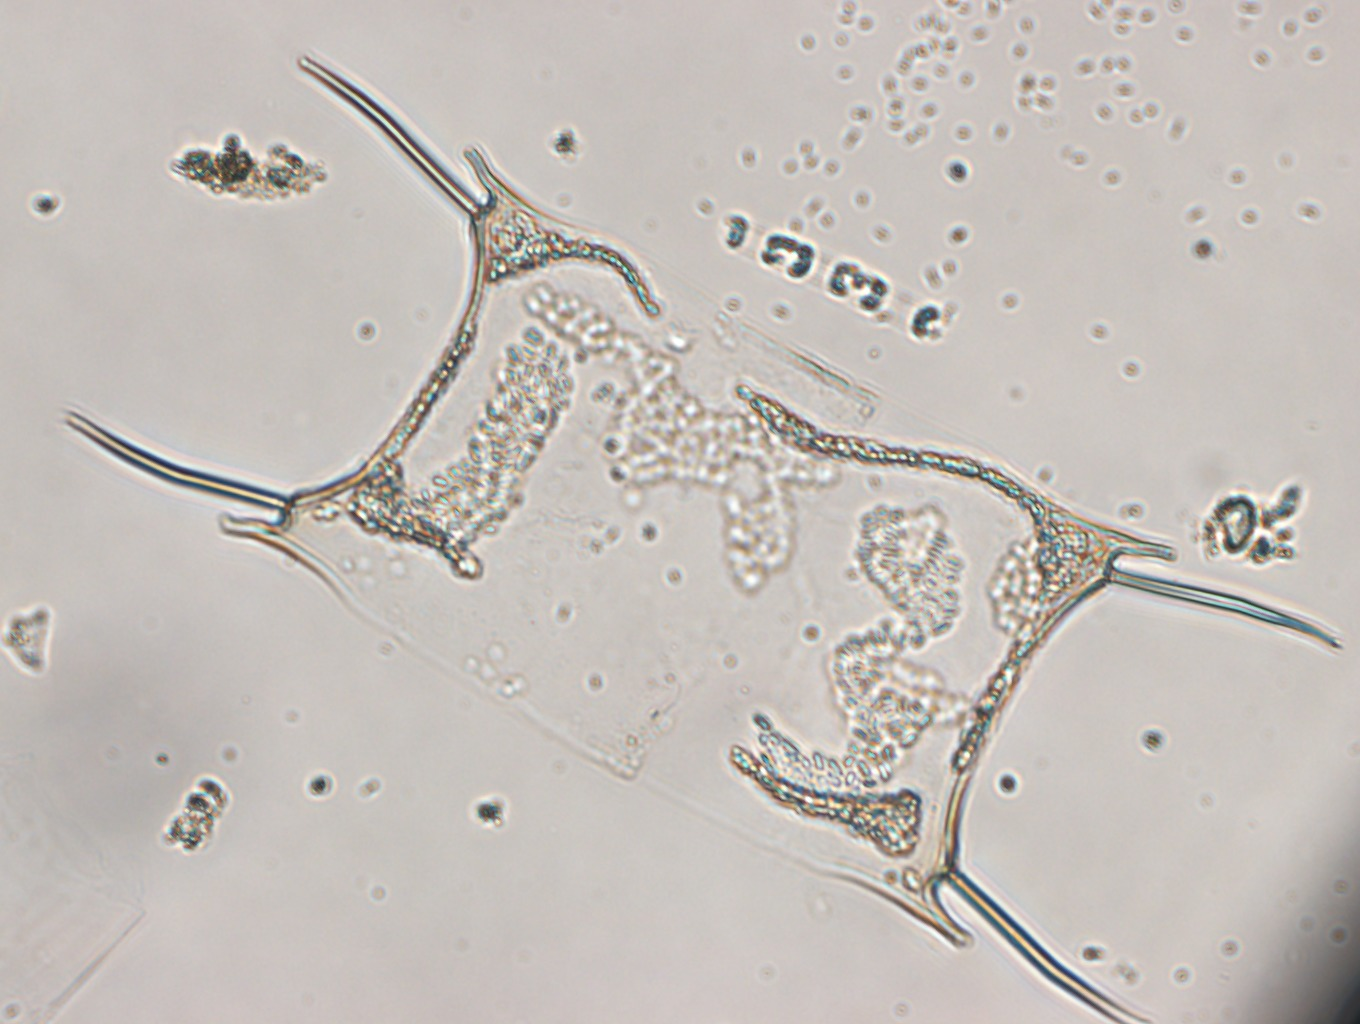biddulphia: (53, 49, 1345, 1024)
